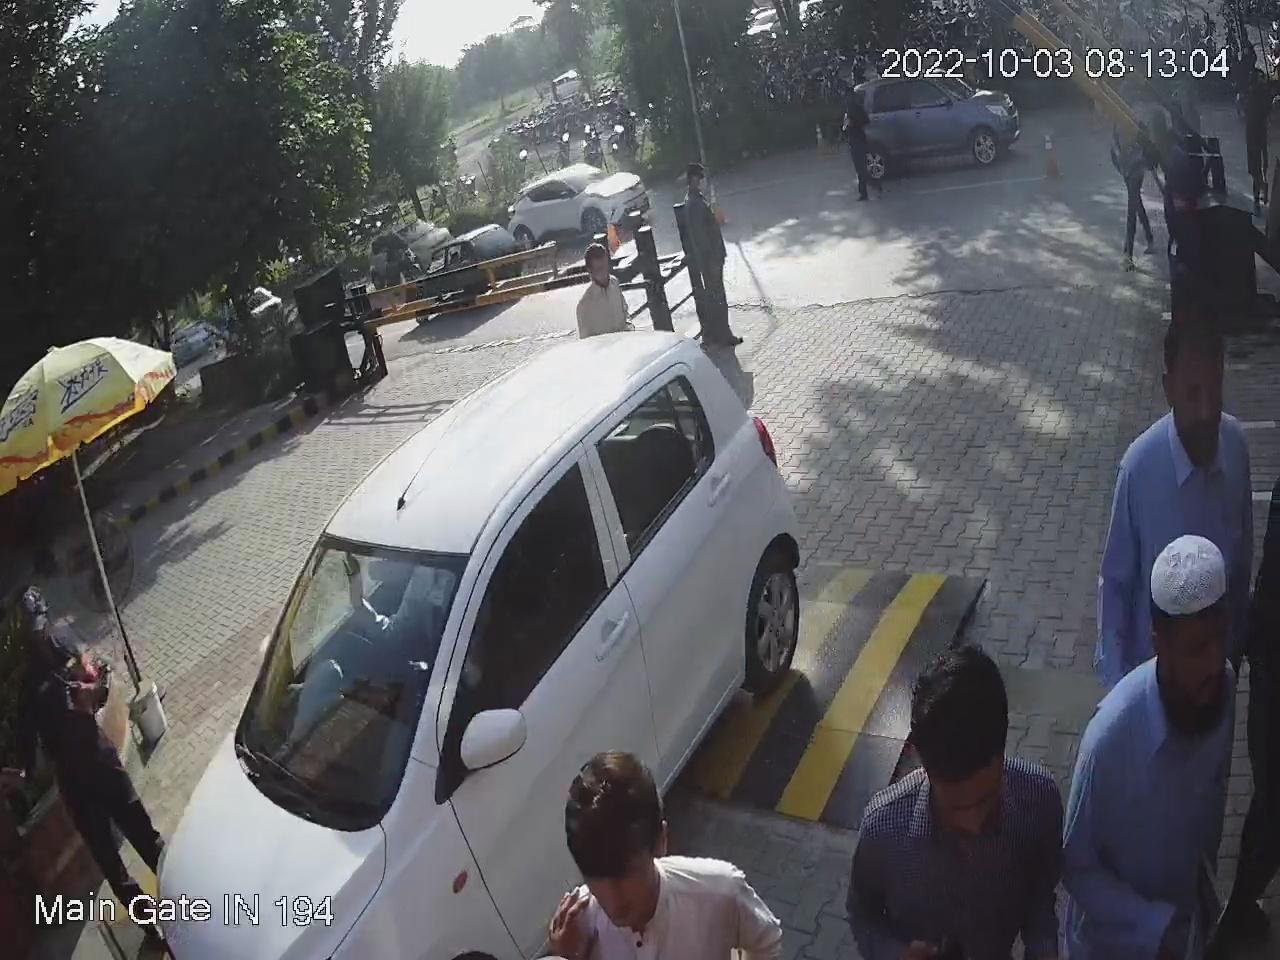windshield: (226, 522, 481, 835)
